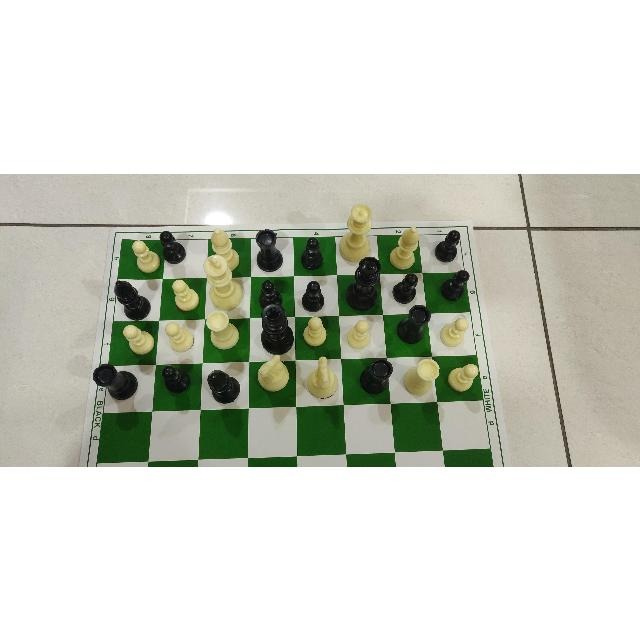black-bishop: (106, 278, 153, 322), (203, 365, 244, 407)
black-king: (257, 300, 297, 356)
black-pawn: (157, 361, 195, 400), (297, 232, 332, 272), (436, 264, 471, 303), (298, 276, 329, 317), (433, 226, 466, 264), (388, 270, 421, 306), (158, 227, 189, 262), (256, 277, 286, 313)
black-queen: (344, 252, 384, 318)
black-rook: (91, 355, 143, 402), (248, 226, 288, 274), (353, 354, 396, 394), (397, 302, 435, 346)
white-bishop: (201, 223, 245, 275), (386, 220, 424, 276)
white-king: (203, 250, 247, 313)
white-knight: (249, 352, 297, 404), (302, 354, 343, 402)
white-pawn: (127, 232, 163, 275), (445, 360, 483, 400), (117, 321, 157, 357), (438, 313, 474, 353), (161, 319, 198, 357), (167, 275, 201, 315), (345, 310, 375, 352), (299, 310, 330, 348)
white-queen: (335, 196, 375, 267)
white-rook: (400, 354, 442, 401), (202, 307, 241, 353)
